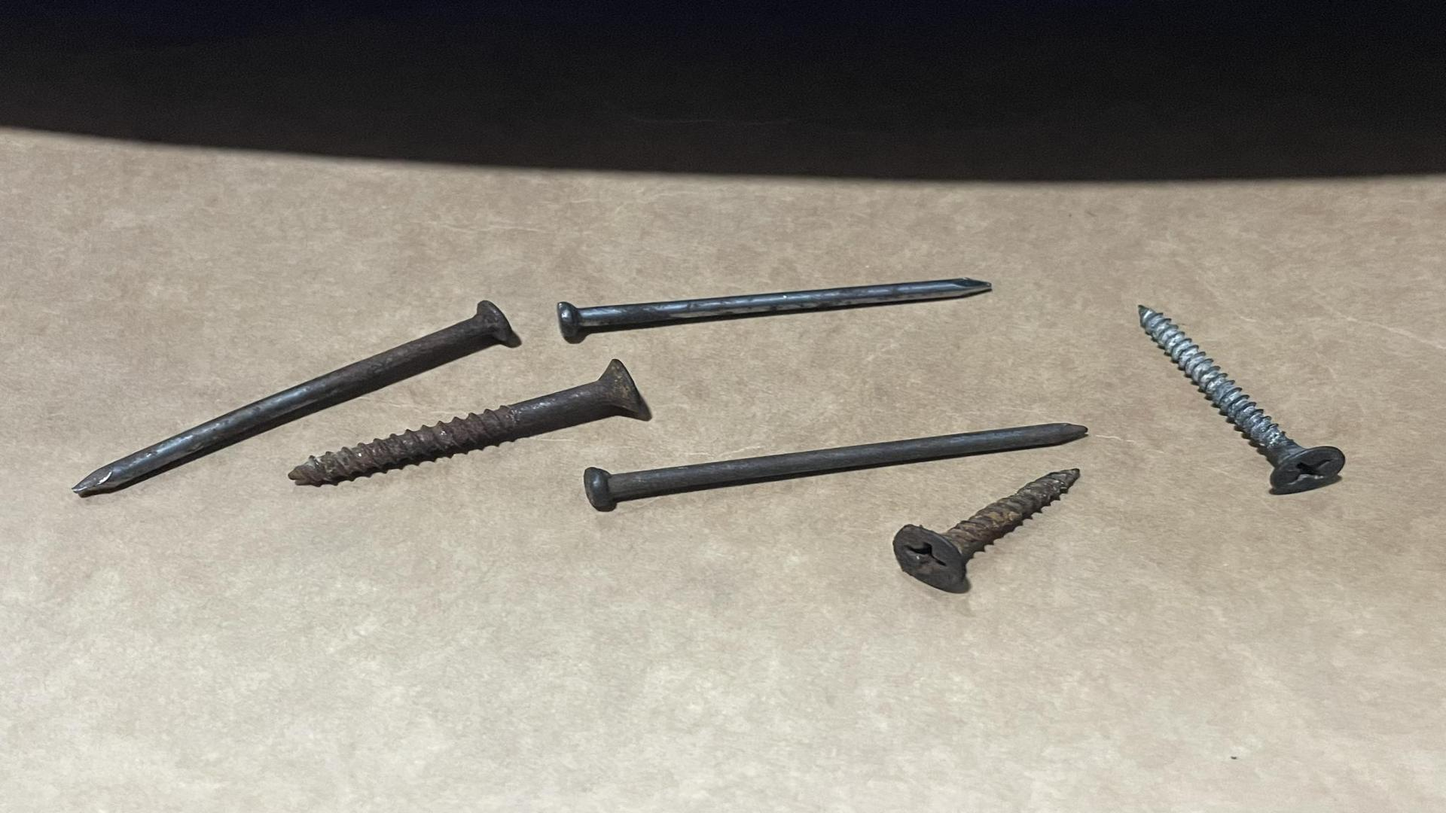nail: (55, 288, 524, 525), (535, 265, 1019, 343)
screw: (278, 358, 658, 512), (1124, 298, 1354, 518), (832, 469, 1121, 617)
